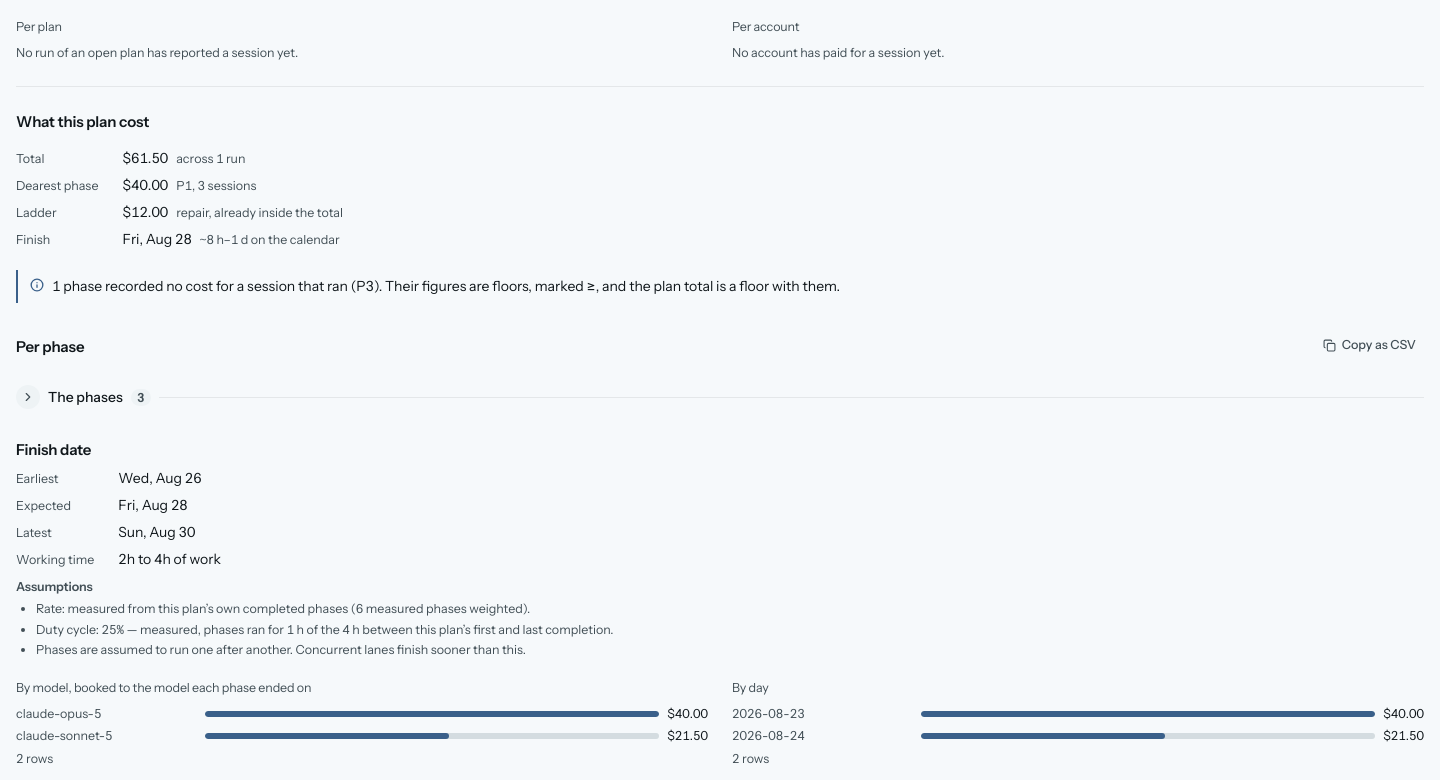
Test: the plan cost card › marks a phase whose cost was never harvested rather than printing it as free
This screenshot has width=1440, height=780.
(page scrolled)
expect the text "1 phase recorded no cost for a session that ran (P3)" is shown: met, box [52,277,840,295]
Click the button "The phases 3".
click(85, 397)  # box [16,375,1424,419]
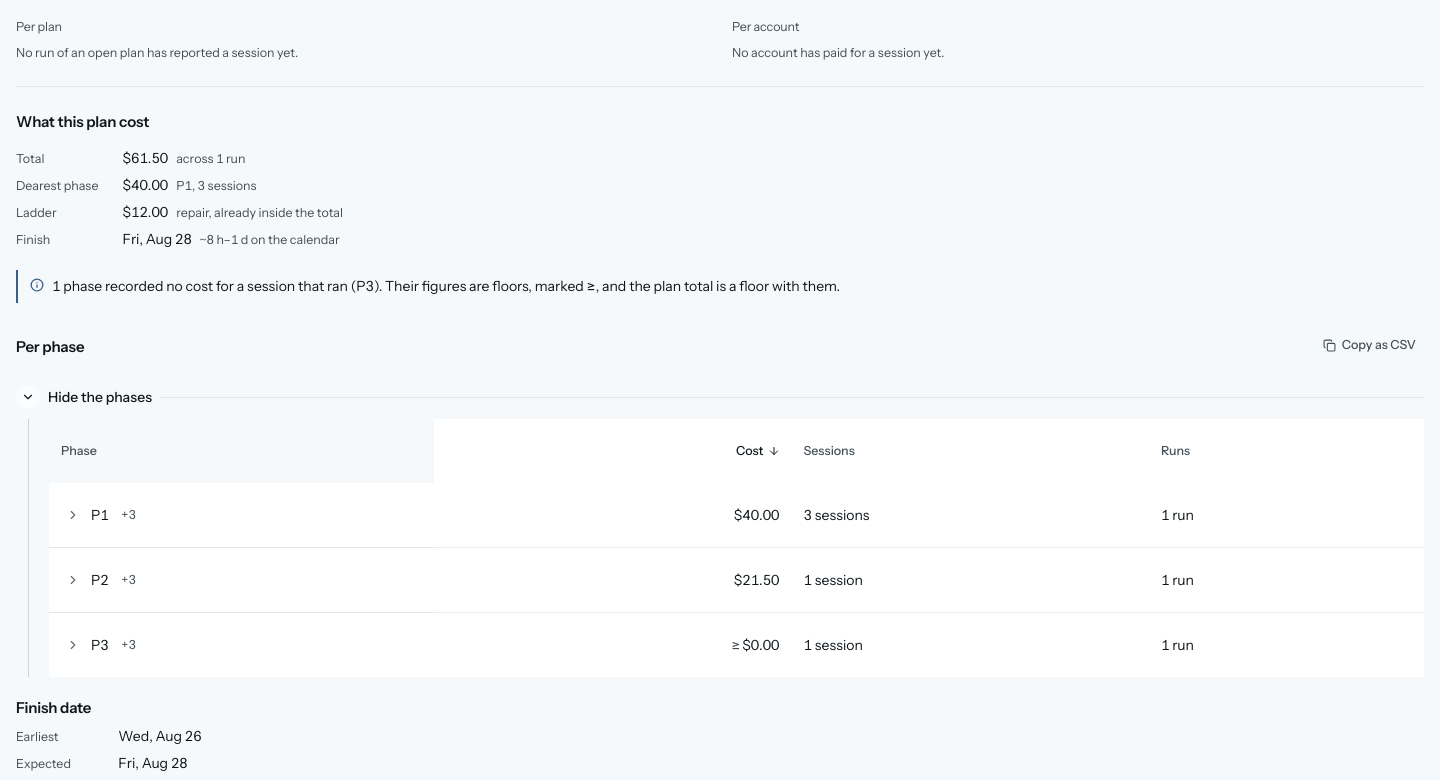
expect the number of elements titled "A session ran whose spend was never recorded" is 1: met, box [731,636,740,654]
expect the text titled "A session ran whose spend was never recorded" reads "≥": met, box [731,636,740,654]
expect the link "P3" is shown: met, box [91,636,109,654]
